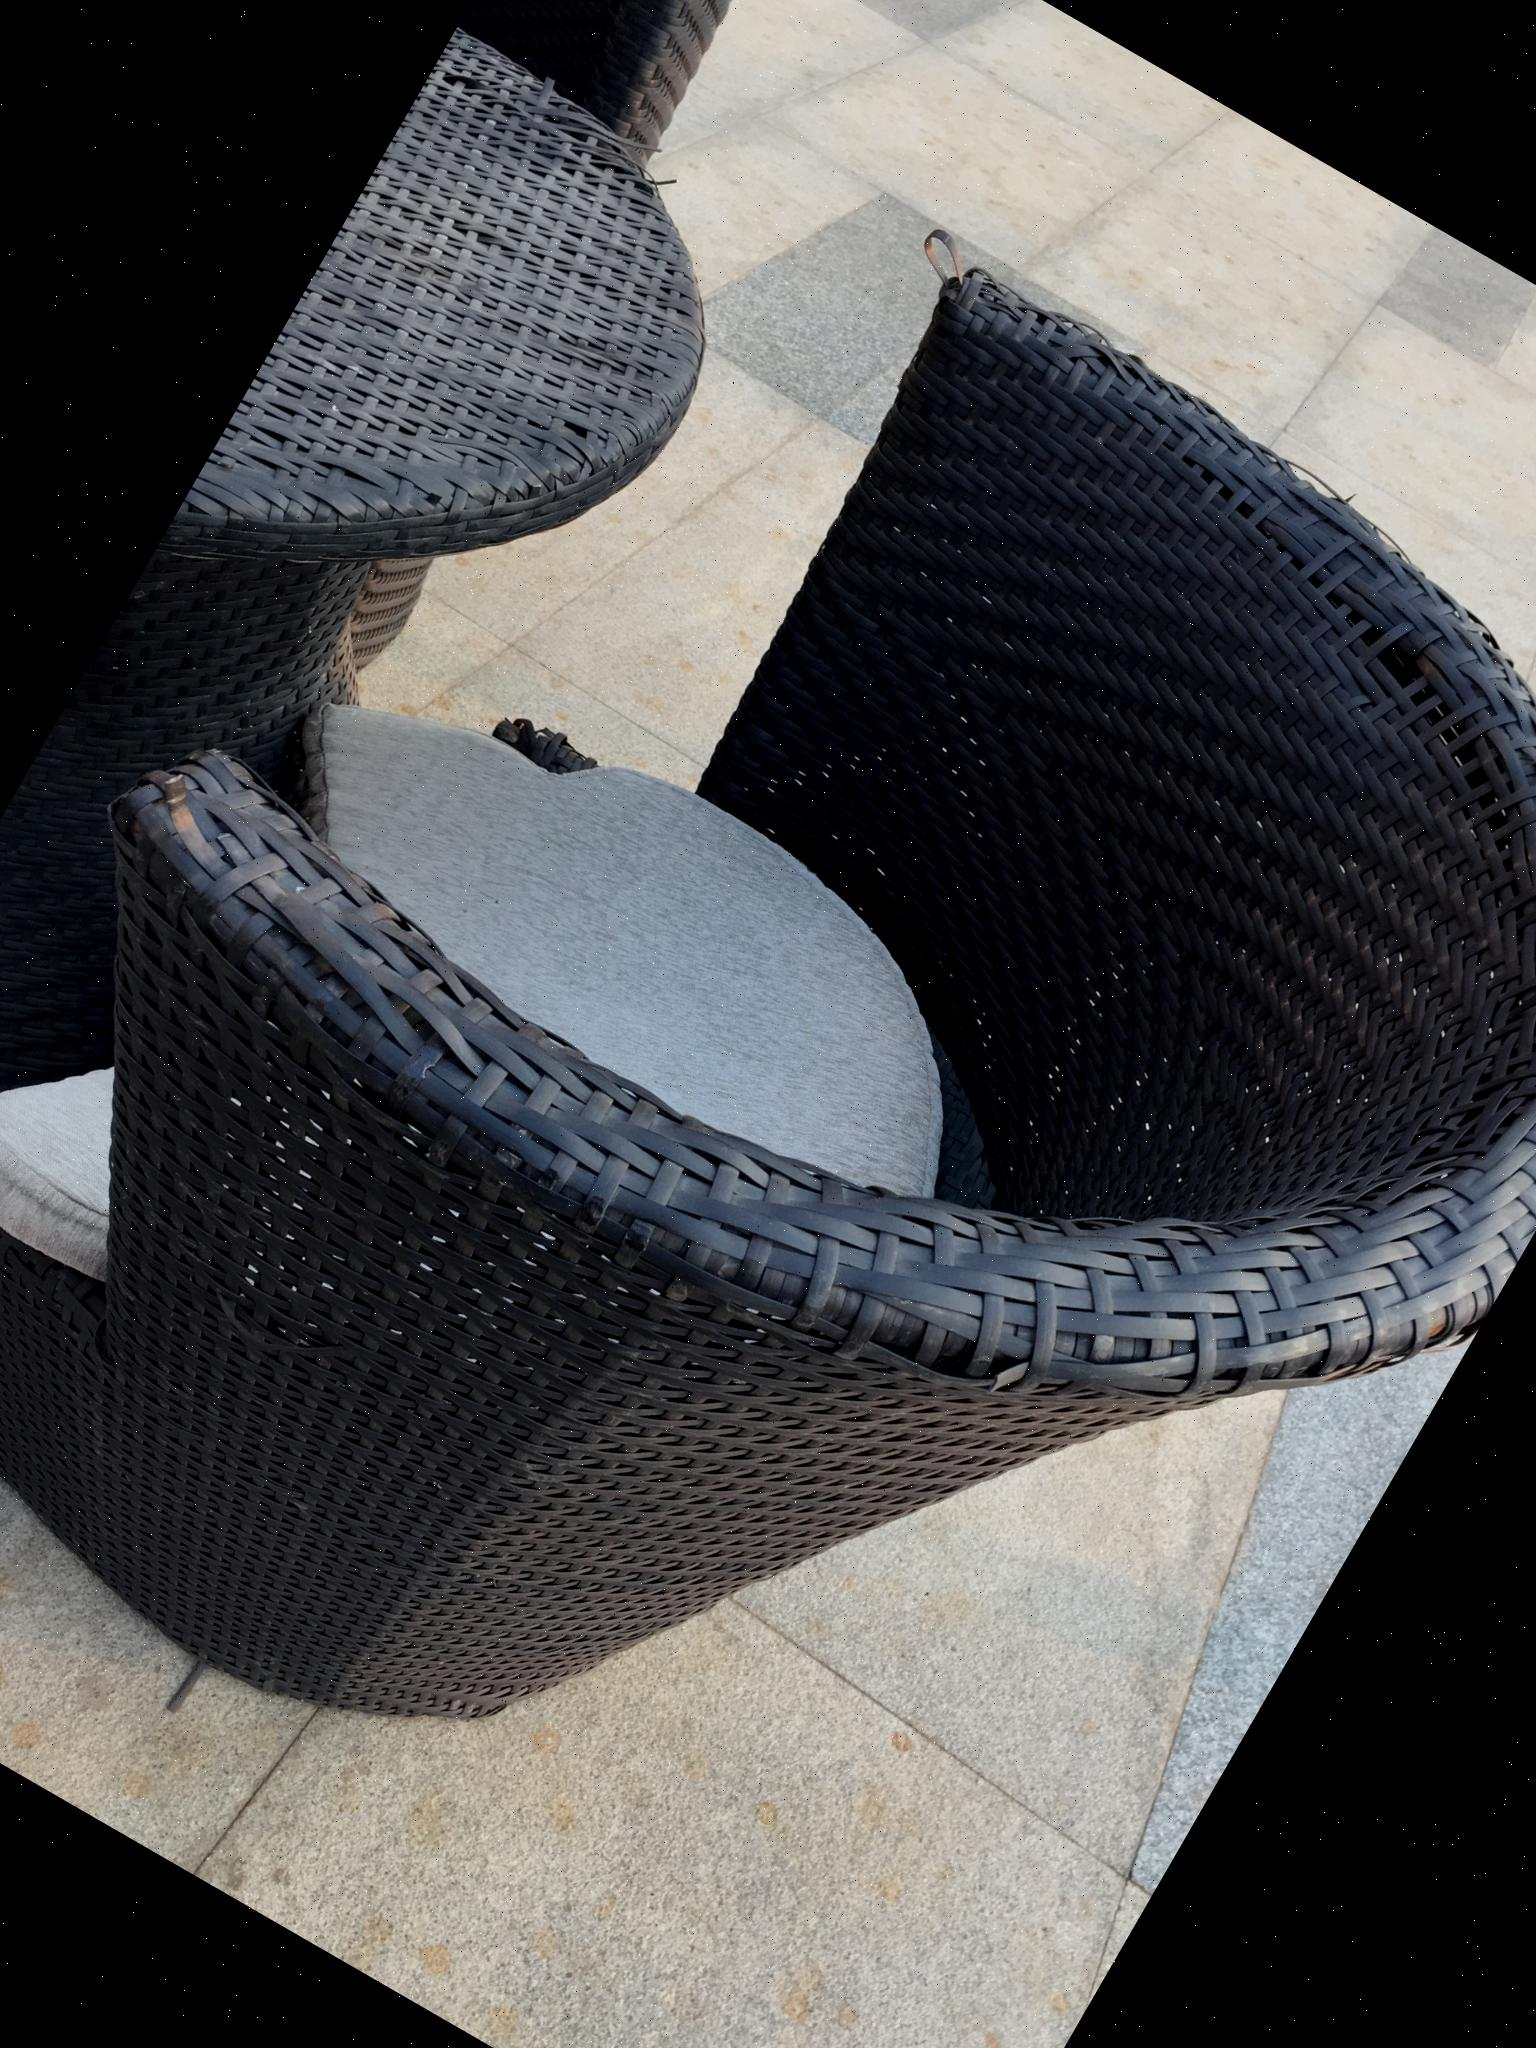chair: (0, 10, 1536, 2048), (0, 0, 954, 1327)
